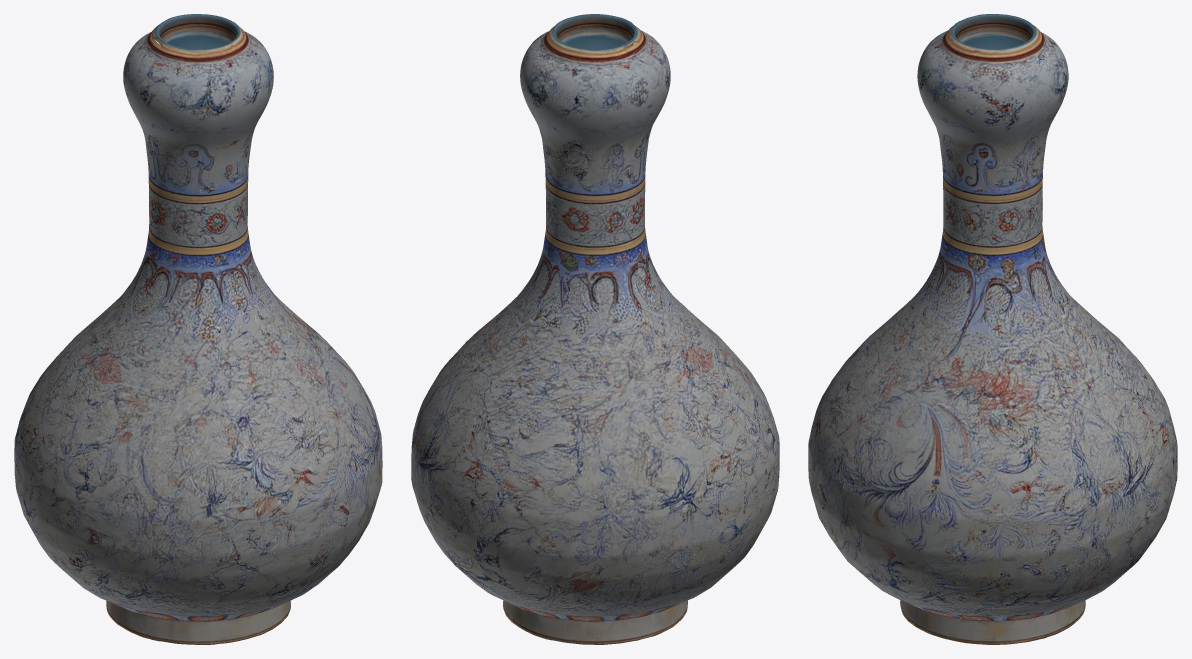
Rendered from 珐琅彩缠枝花卉蒜头瓶.glb.
The picture shows the model from 3 angles, left to right: view 1: azimuth 30°, elevation 25°; view 2: azimuth 150°, elevation 25°; view 3: azimuth 270°, elevation 25°; orthographic projection.
Visible parts, largest first — view 1: tripo_node_354be10e; view 2: tripo_node_354be10e; view 3: tripo_node_354be10e.
Part boxes in pixels (box(x1,y1,x2,y2)): tripo_node_354be10e: box(14, 14, 382, 644); tripo_node_354be10e: box(411, 14, 779, 644); tripo_node_354be10e: box(808, 14, 1177, 644).
Bounding box in the file's own units: 57.03 × 98.01 × 57.09.
Materials: 1 (1 with a texture image).
